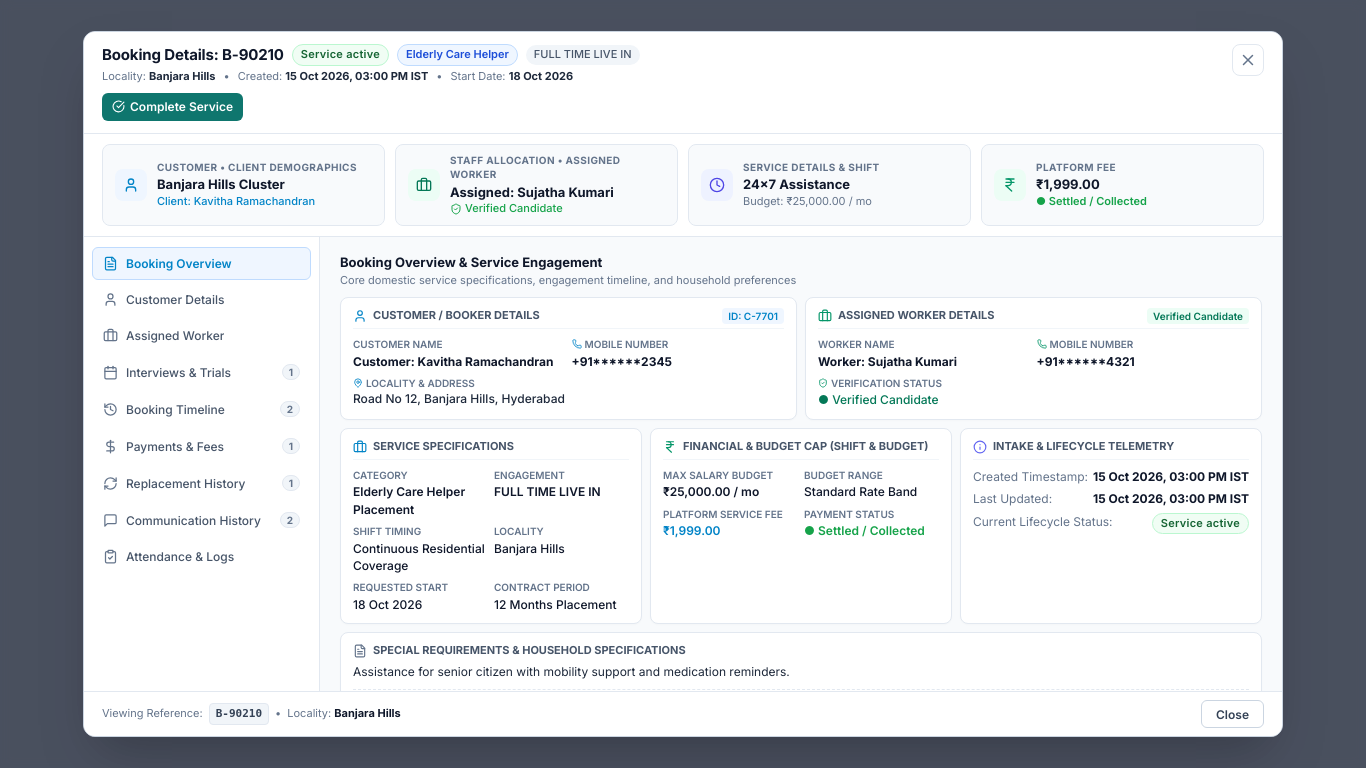
Test: Booking Details & Activity Workspace Specification Suite › Navigation & Action Triggers › renders all 9 section tabs in left navigation and supports Attendance tab navigation
Expected: the tab with test id "workspace-tab-overview" is shown, [92,247,311,280]
Expected: the tab with test id "workspace-tab-customer" is shown, [92,283,311,316]
// Click Attendance tab
Click the tab with test id "workspace-tab-attendance".
click(202, 557)  # box [92,540,311,573]
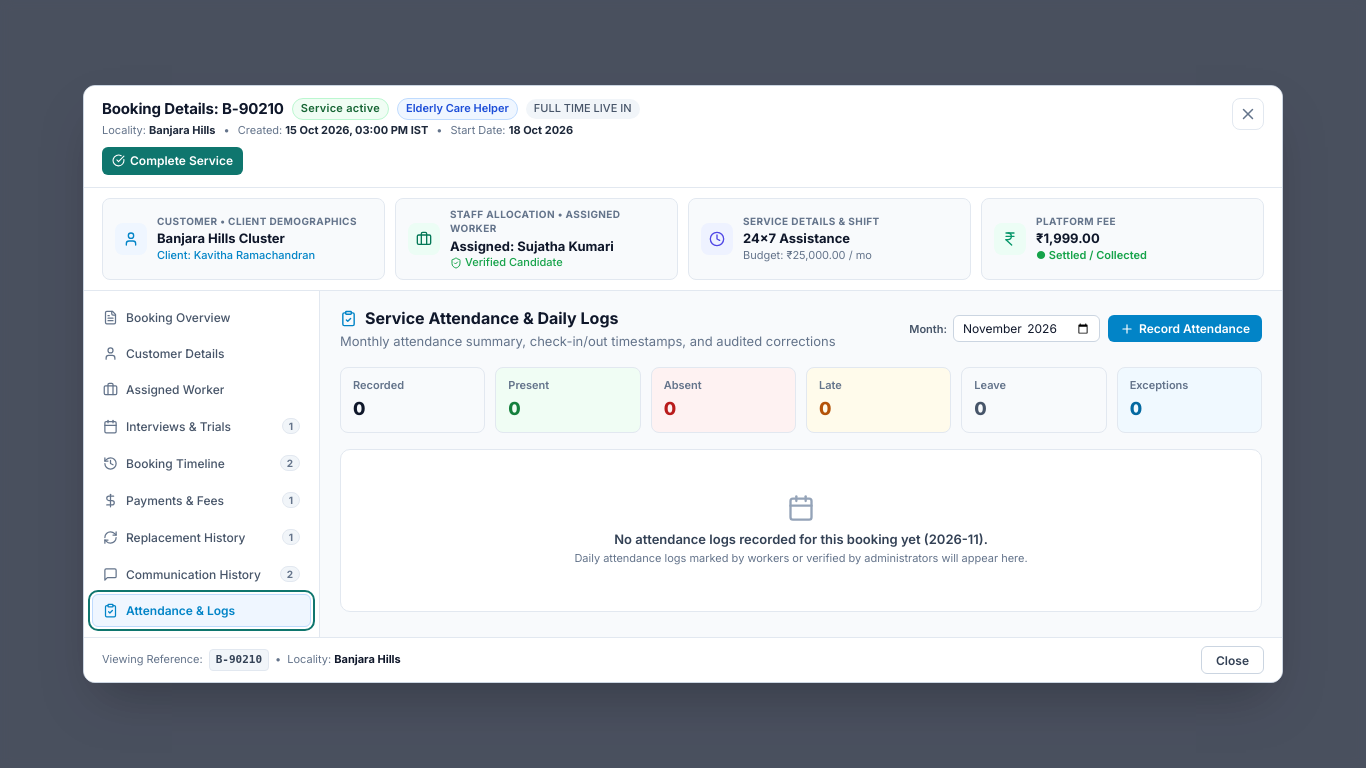
Result: the heading "Service Attendance & Daily Logs" is shown at [340,308,618,328]
Result: the text "Recorded" is shown at [353,378,404,392]
Result: the text "Present" is shown at [508,378,549,392]
